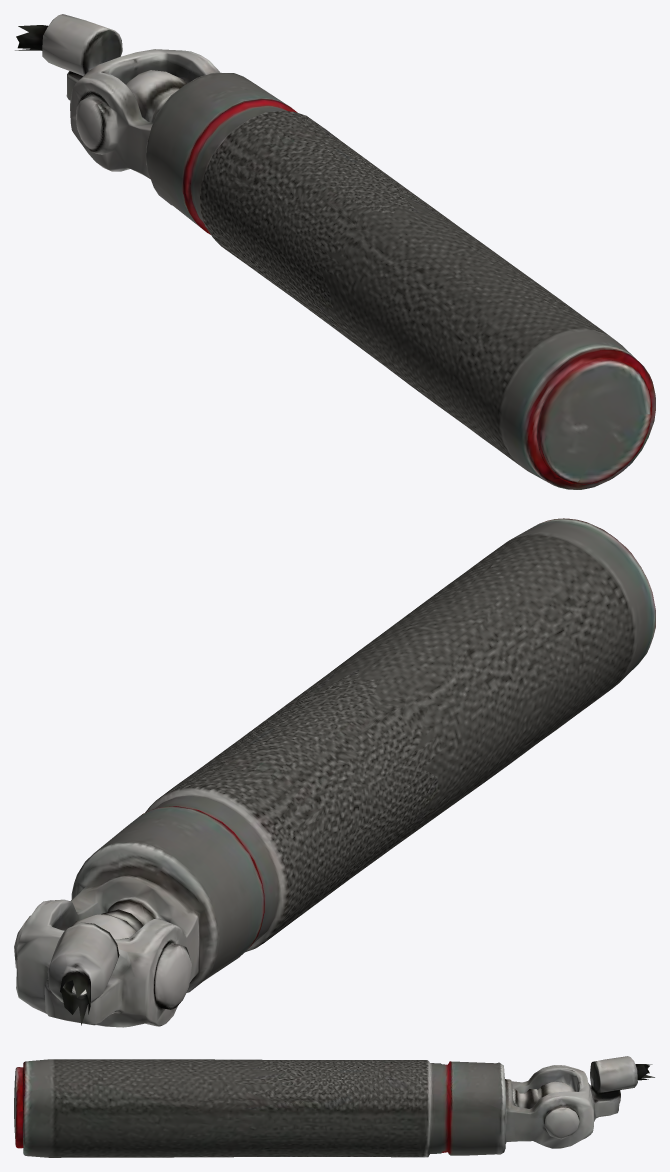
The model's file is weapon-speed-rope.glb.
3 views of the same model, one above another, from view 1: azimuth 30°, elevation 25°; view 2: azimuth 150°, elevation 25°; view 3: azimuth 270°, elevation 25° (orthographic). The views are drawn at different scales.
Parts seen in each view (by area): view 1: tripo_node_6c882376-ca00-41a6-8b25-65c3869b2865; view 2: tripo_node_6c882376-ca00-41a6-8b25-65c3869b2865; view 3: tripo_node_6c882376-ca00-41a6-8b25-65c3869b2865.
Part boxes in pixels (x1,y1,x2,y2): tripo_node_6c882376-ca00-41a6-8b25-65c3869b2865: [15, 14, 655, 489]; tripo_node_6c882376-ca00-41a6-8b25-65c3869b2865: [14, 518, 655, 1027]; tripo_node_6c882376-ca00-41a6-8b25-65c3869b2865: [14, 1056, 654, 1157].
Bounding box in the file's own units: 0.0375 × 0.0345 × 0.2242.
Materials: 1 (1 with a texture image).
